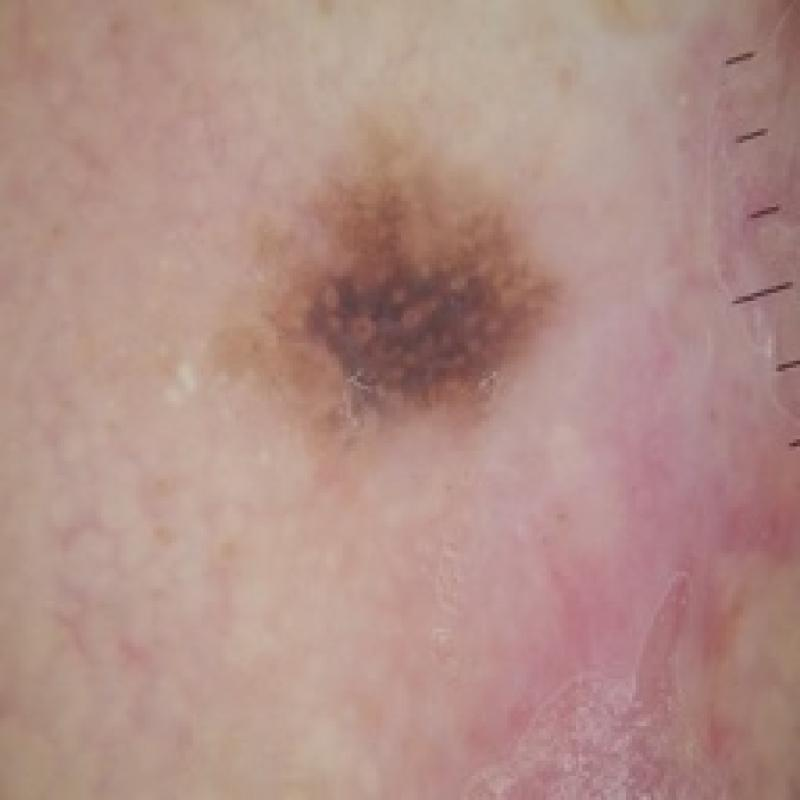malignant: (208, 96, 580, 479)
